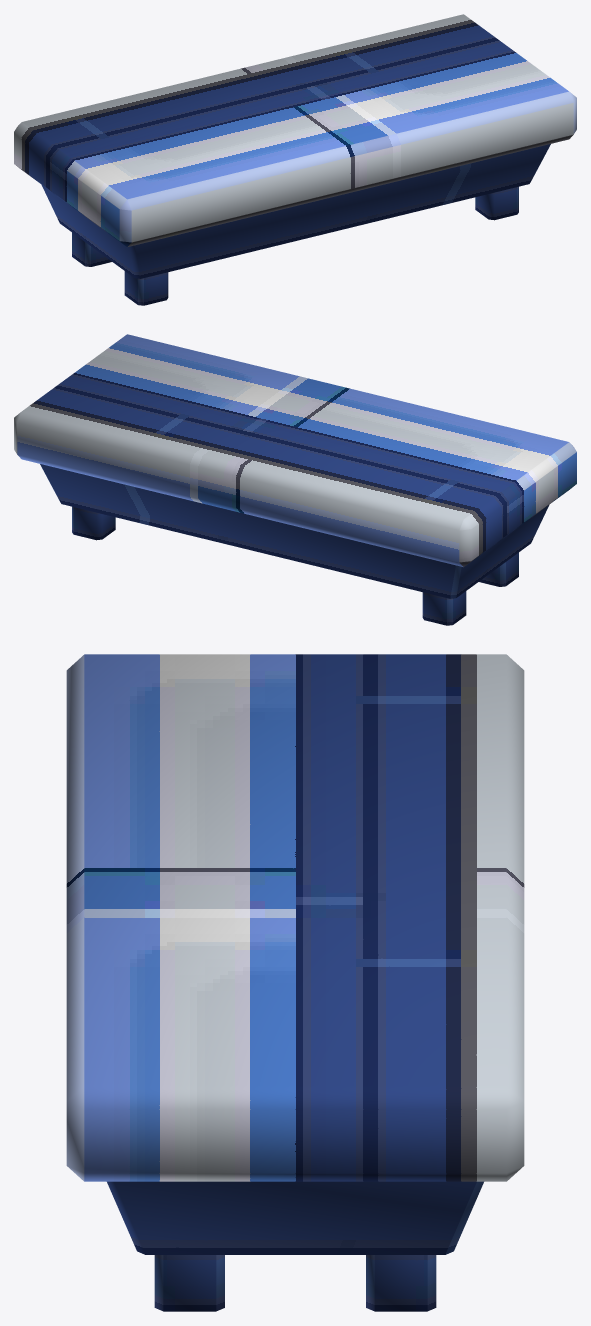
The model's file is rmk_str_tableM.dae.
3 renders of one model, top to bottom at view 1: azimuth 30°, elevation 25°; view 2: azimuth 150°, elevation 25°; view 3: azimuth 270°, elevation 25°, orthographic. The views are drawn at different scales.
Parts seen in each view (by area): view 1: rmk_str_tableM; view 2: rmk_str_tableM; view 3: rmk_str_tableM.
Part boxes in pixels (<box>): rmk_str_tableM: <box>14,14,576,305</box>; rmk_str_tableM: <box>14,334,576,625</box>; rmk_str_tableM: <box>66,654,524,1311</box>.
Bounding box in the file's own units: 60 × 16 × 26.
Materials: 1 (1 with a texture image).
